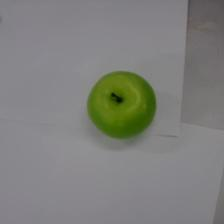green: (83, 67, 158, 141)
